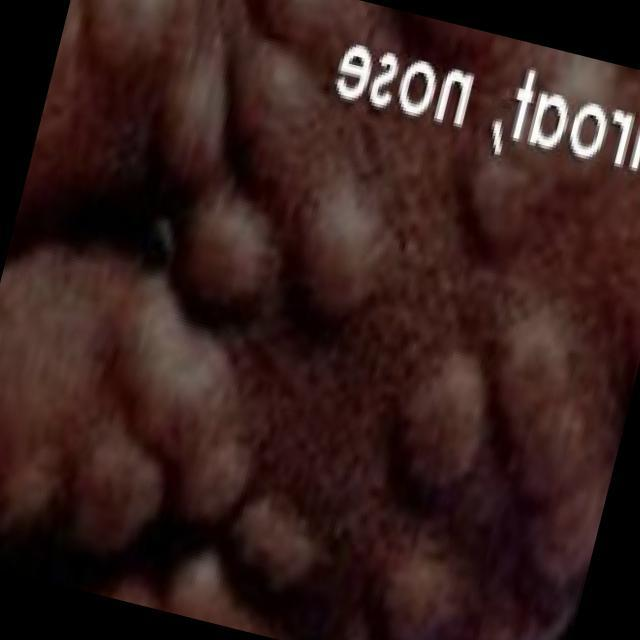Eczema: (40, 0, 595, 632)
